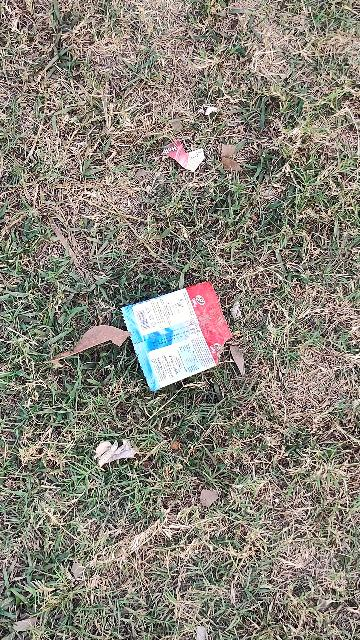packet: (103, 247, 267, 412)
